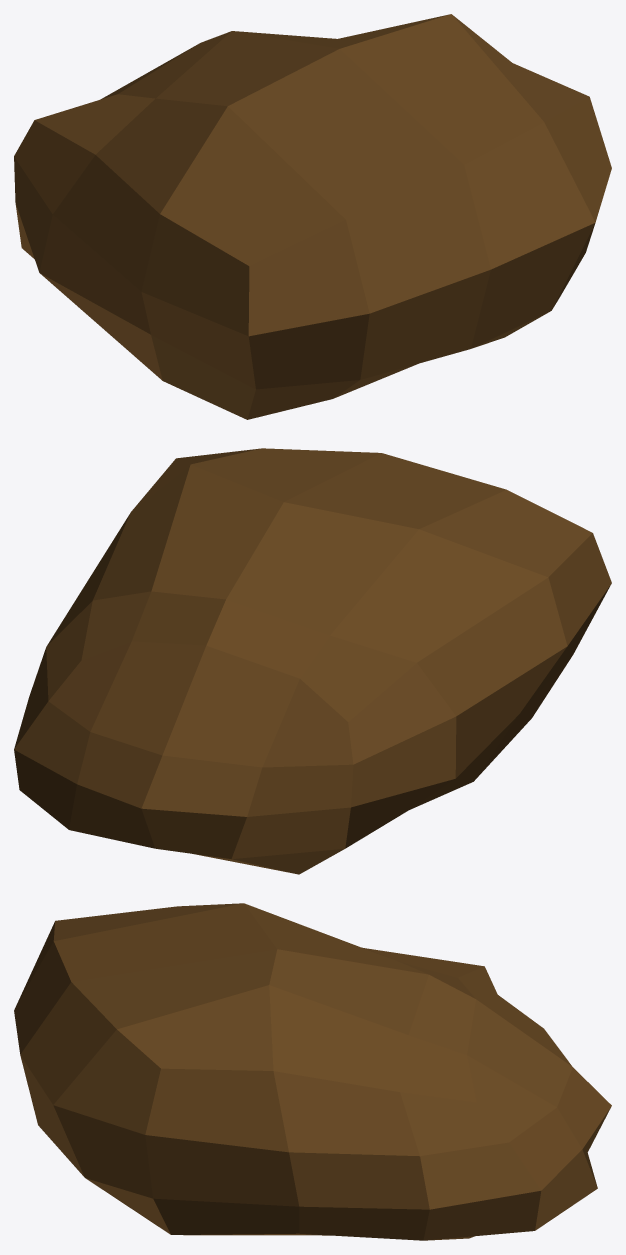
File: Stone1_brown.fbx
3 views of the same model, one above another, from view 1: azimuth 30°, elevation 25°; view 2: azimuth 150°, elevation 25°; view 3: azimuth 270°, elevation 25° (orthographic). The views are drawn at different scales.
Visible parts, largest first — view 1: Stone1_brown; view 2: Stone1_brown; view 3: Stone1_brown.
Part boxes in pixels (box(x1,y1,x2,y2)): Stone1_brown: box(14, 14, 611, 419); Stone1_brown: box(14, 448, 611, 874); Stone1_brown: box(14, 903, 611, 1240).
Size of the model in its own units: 310 by 214 by 392.
